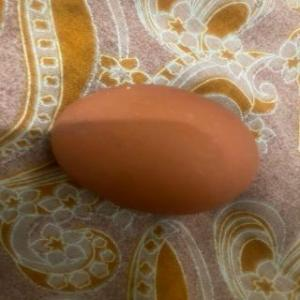egg: (46, 80, 262, 218)
